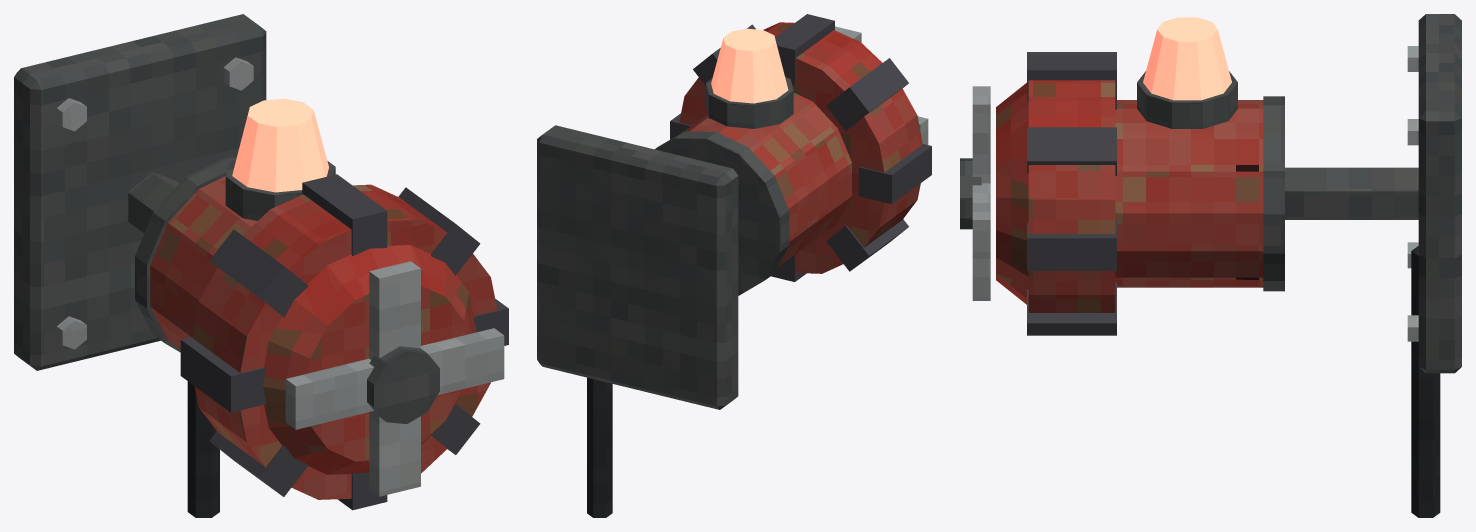
File: siren.glb
The picture shows the model from 3 angles, left to right: view 1: azimuth 30°, elevation 25°; view 2: azimuth 150°, elevation 25°; view 3: azimuth 270°, elevation 25°; orthographic projection. The views are drawn at different scales.
Visible parts, largest first — view 1: body, rotor, lamp_on; view 2: body, lamp_on; view 3: body, lamp_on, rotor.
Boxes of the visible parts, left/top/right/bottom form: body: left=14, top=14, right=508, bottom=517; rotor: left=285, top=261, right=504, bottom=496; lamp_on: left=232, top=98, right=328, bottom=192; body: left=537, top=14, right=931, bottom=517; lamp_on: left=711, top=28, right=788, bottom=103; body: left=996, top=14, right=1461, bottom=517; lamp_on: left=1143, top=17, right=1231, bottom=100; rotor: left=960, top=86, right=990, bottom=300.
Size of the model in its own units: 0.4 by 0.701 by 0.695.
Materials: 7 (4 with a texture image).
